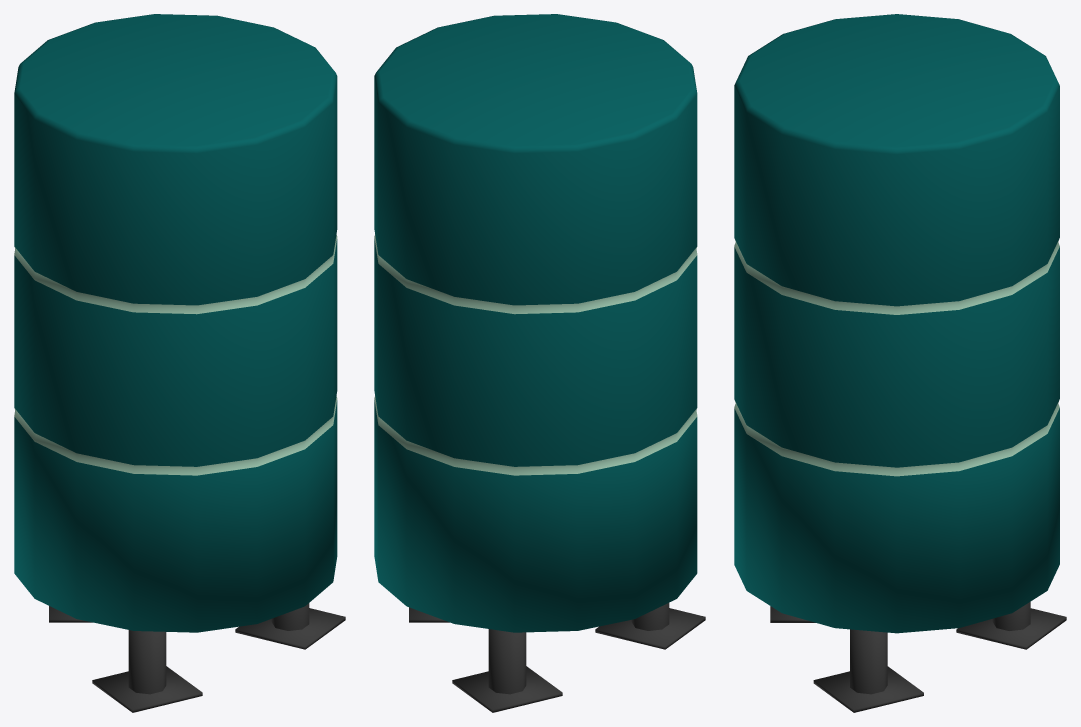
File: Prop_RoofWaterStore_03.fbx
The picture shows the model from 3 angles, left to right: view 1: azimuth 30°, elevation 25°; view 2: azimuth 150°, elevation 25°; view 3: azimuth 270°, elevation 25°; orthographic projection.
Parts seen in each view (by area): view 1: Prop_RoofWaterStore_03; view 2: Prop_RoofWaterStore_03; view 3: Prop_RoofWaterStore_03.
Part boxes in pixels (x1,y1,x2,y2): Prop_RoofWaterStore_03: (14, 14, 345, 712); Prop_RoofWaterStore_03: (374, 14, 705, 712); Prop_RoofWaterStore_03: (734, 14, 1066, 712).
Bounding box in the file's own units: 166 × 307 × 165.
